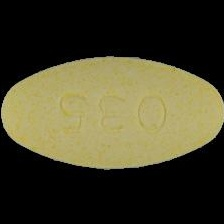60429-205: (0, 0, 224, 224)
